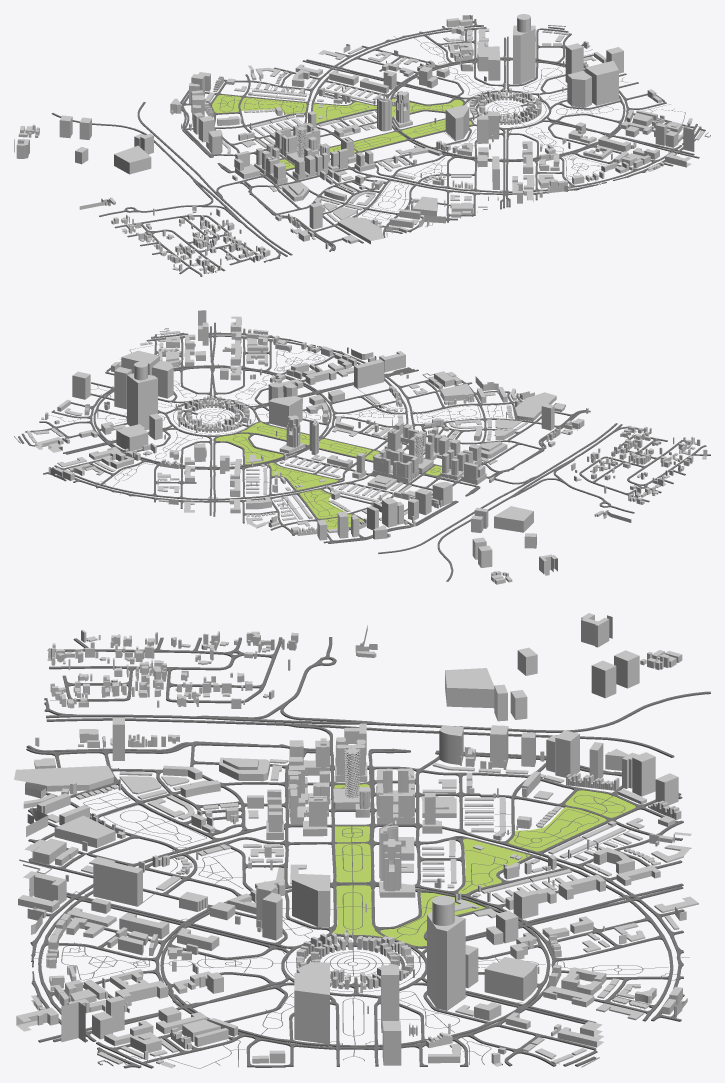
Rendered from Exocita_mini_map.glb.
The picture shows the model from 3 angles, top to bottom: view 1: azimuth 30°, elevation 25°; view 2: azimuth 150°, elevation 25°; view 3: azimuth 270°, elevation 25°; orthographic projection. The views are drawn at different scales.
Visible parts, largest first — view 1: build, road, tree; view 2: build, road, tree; view 3: build, road, tree.
Boxes of the visible parts, bbox=[...] form: build: bbox=[14, 14, 710, 273]; road: bbox=[51, 19, 705, 276]; tree: bbox=[212, 95, 472, 169]; build: bbox=[14, 310, 707, 584]; road: bbox=[18, 322, 710, 581]; tree: bbox=[215, 422, 441, 529]; build: bbox=[14, 613, 698, 1068]; road: bbox=[26, 637, 710, 1068]; tree: bbox=[332, 784, 635, 946].
Size of what is drawn, in the model's own units: 2738 by 296 by 1837.
